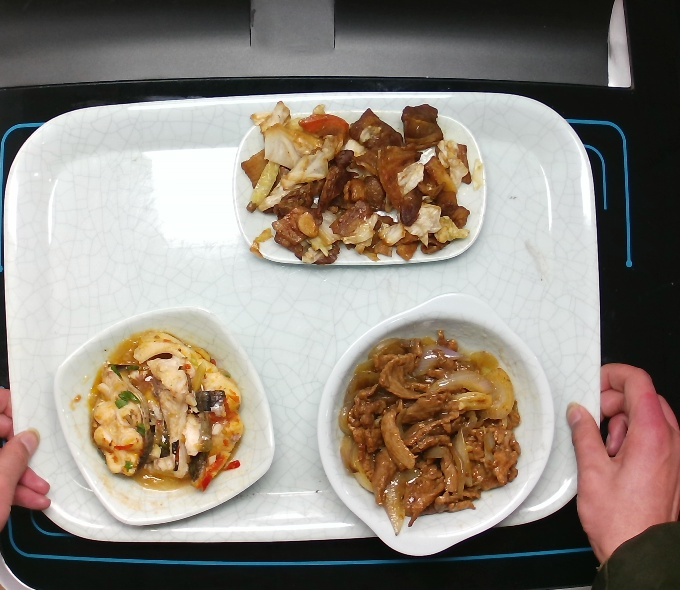wcq-DuoJiaoYuKuai: (87, 332, 247, 491)
wcq-PaoCaiRouPian: (243, 107, 477, 269)
wcq-YangCongRouPian: (337, 331, 522, 524)
